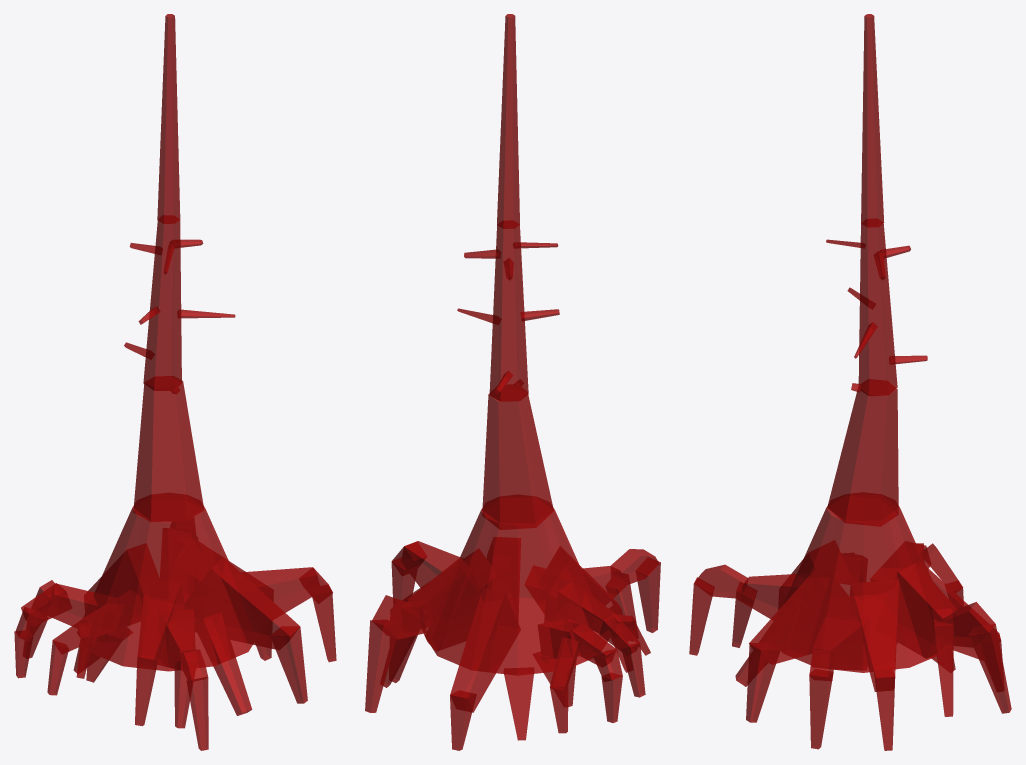
The model's file is SM_Env_Tree_Swamp_01_Collision.fbx.
3 views of the same model, side by side, from view 1: azimuth 30°, elevation 25°; view 2: azimuth 150°, elevation 25°; view 3: azimuth 270°, elevation 25° (orthographic).
Visible parts, largest first — view 1: SM_Env_Tree_Swamp_01_Collision; view 2: SM_Env_Tree_Swamp_01_Collision; view 3: SM_Env_Tree_Swamp_01_Collision.
Boxes of the visible parts, x1,y1,x2,y2 form: SM_Env_Tree_Swamp_01_Collision: [14, 14, 336, 750]; SM_Env_Tree_Swamp_01_Collision: [365, 14, 660, 750]; SM_Env_Tree_Swamp_01_Collision: [689, 14, 1011, 750].
Bounding box in the file's own units: 861 × 2051 × 878.
